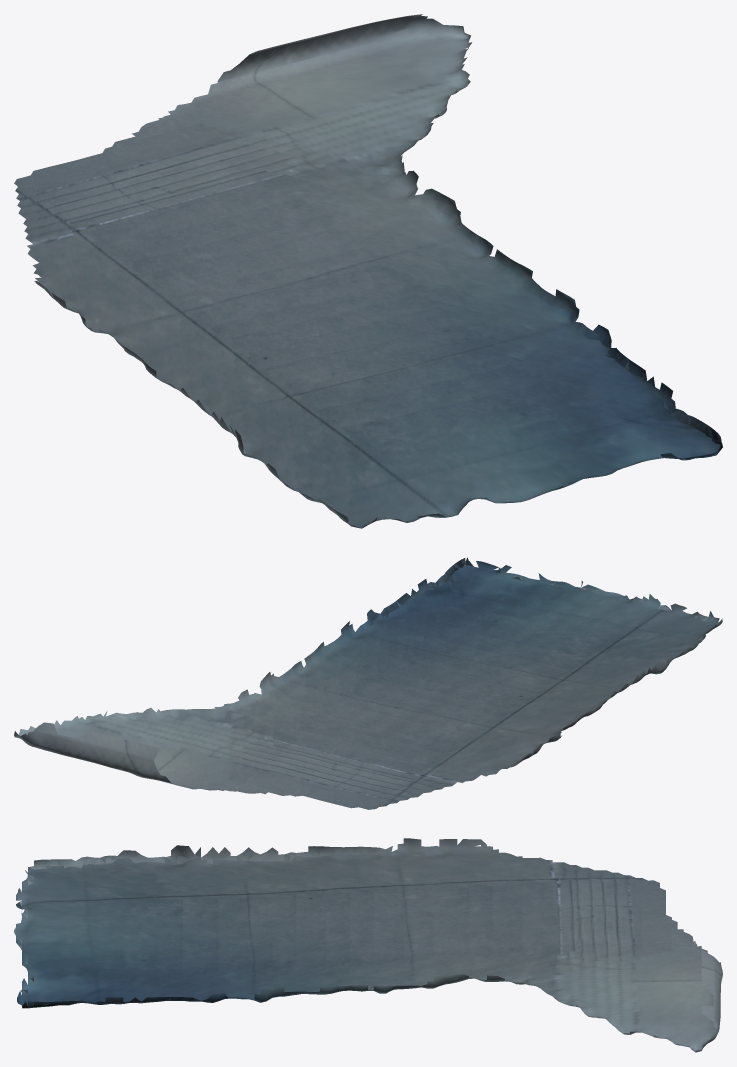
The model's file is Outside8.obj.
The picture shows the model from 3 angles, top to bottom: view 1: azimuth 30°, elevation 25°; view 2: azimuth 150°, elevation 25°; view 3: azimuth 270°, elevation 25°; orthographic projection. The views are drawn at different scales.
Size of the model in its own units: 6.35 by 0.7898 by 8.95.
Materials: 1 (1 with a texture image).
